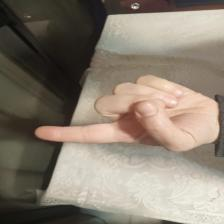one: (30, 73, 217, 151)
